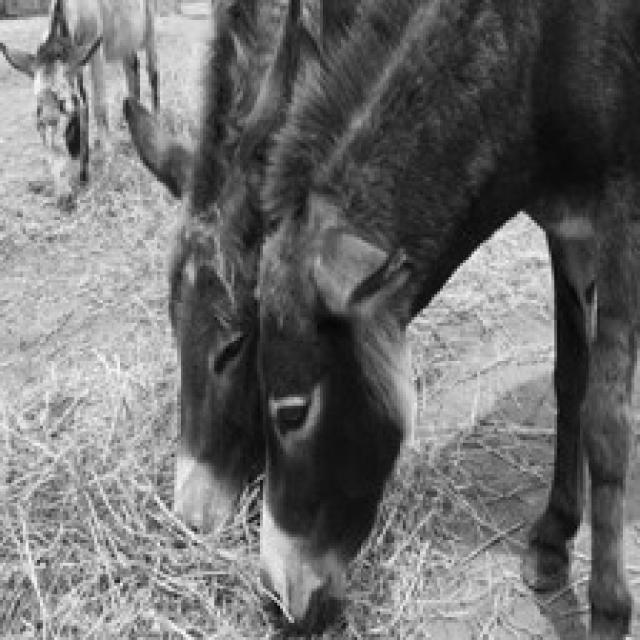Donkey: (245, 0, 637, 637), (120, 0, 403, 534), (0, 0, 160, 211)
